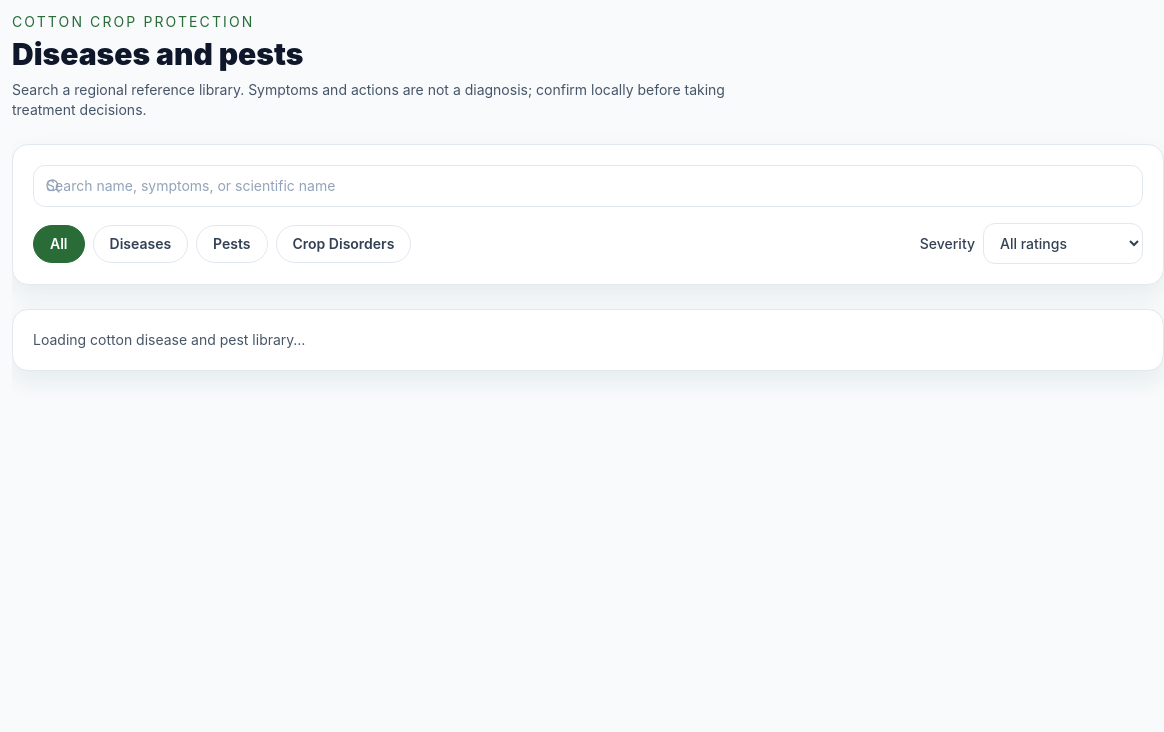
CottonIssueGuide › combines category, symptom/scientific-name search and severity filters
Click the button "Pests".
click(232, 244)  # box x1=196 y1=224 x2=268 y2=262
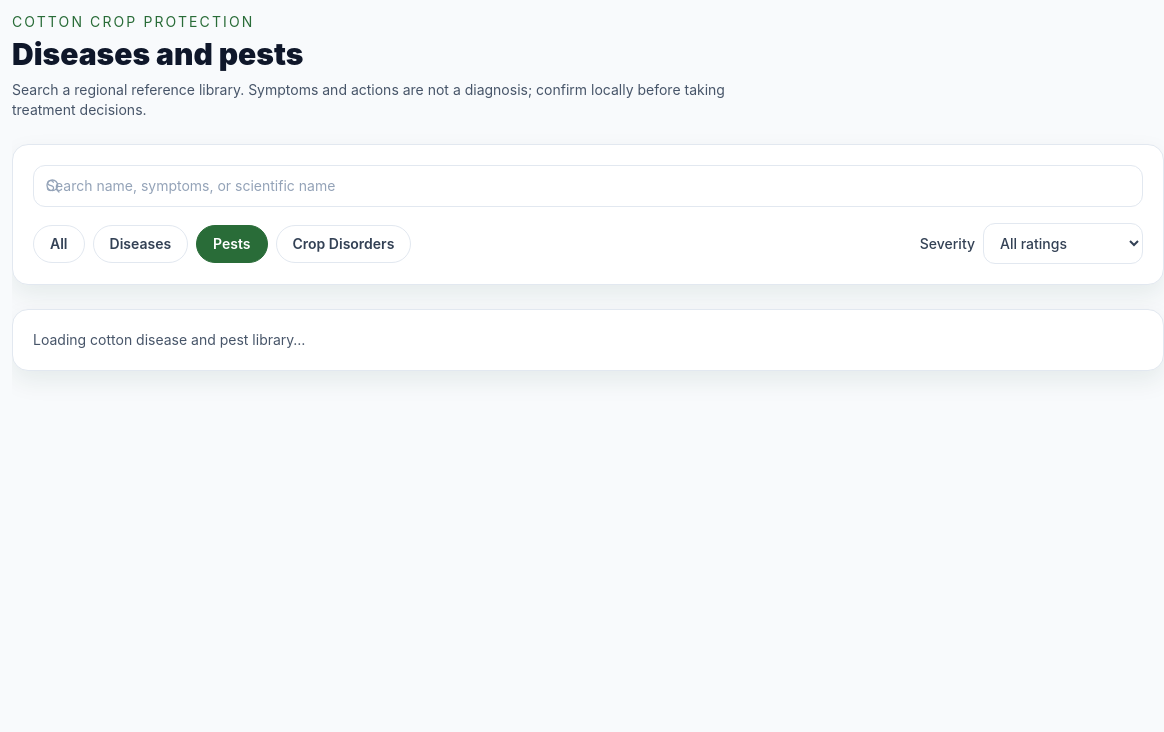
Type "Helicoverpa" into the search field named "Search cotton diseases and pests".
click(588, 186); type("Helicoverpa")  # box x1=33 y1=165 x2=1143 y2=207
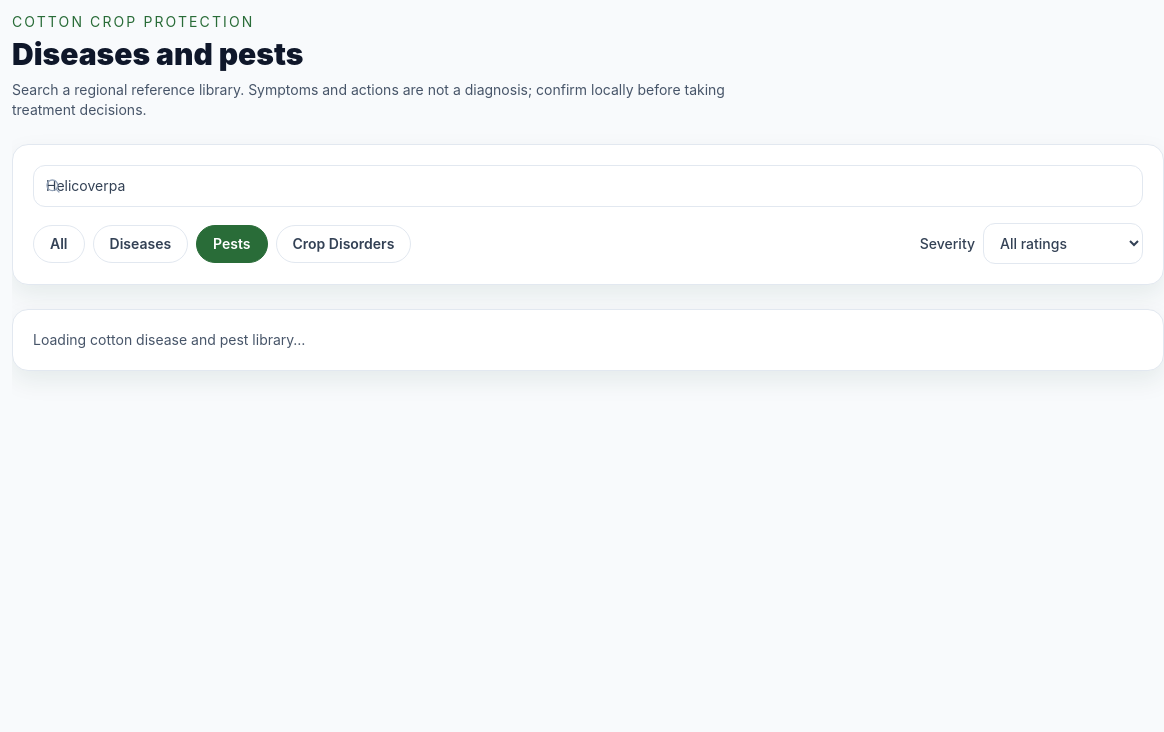
Select "Not established" in the dropdown named "Filter by severity" at [1063, 244], box x1=983 y1=223 x2=1143 y2=264
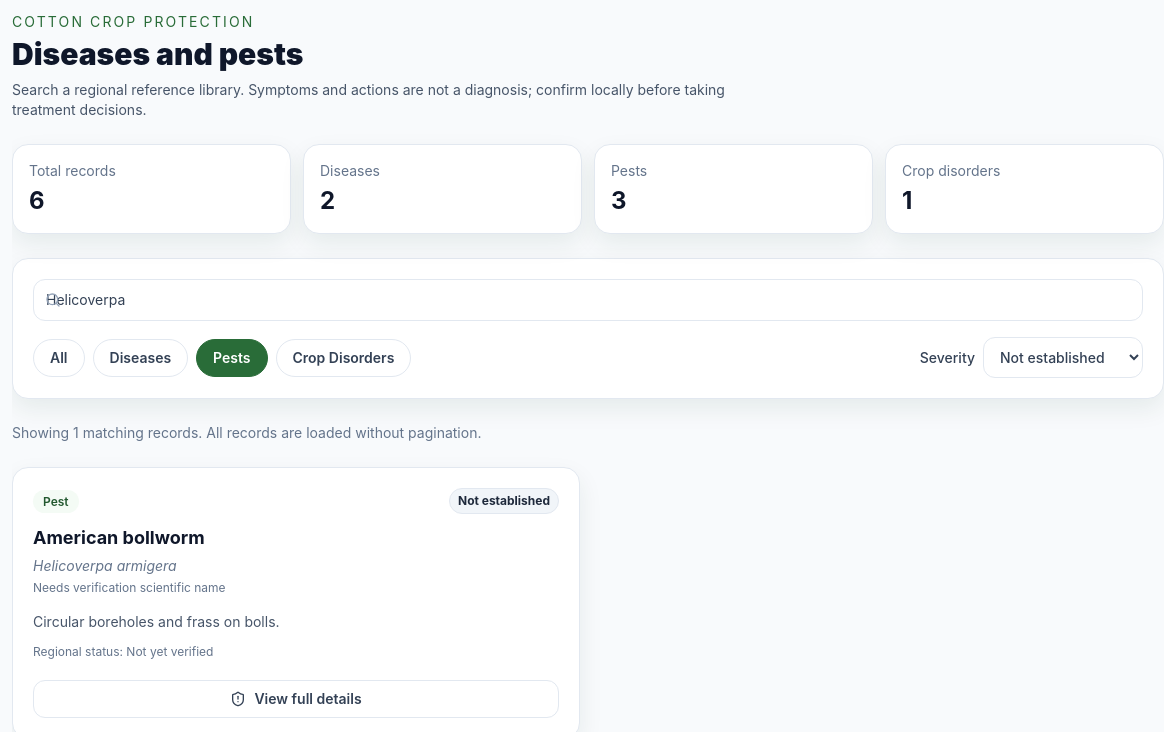
Expected: the heading "American bollworm" is shown, x1=33 y1=524 x2=226 y2=552
